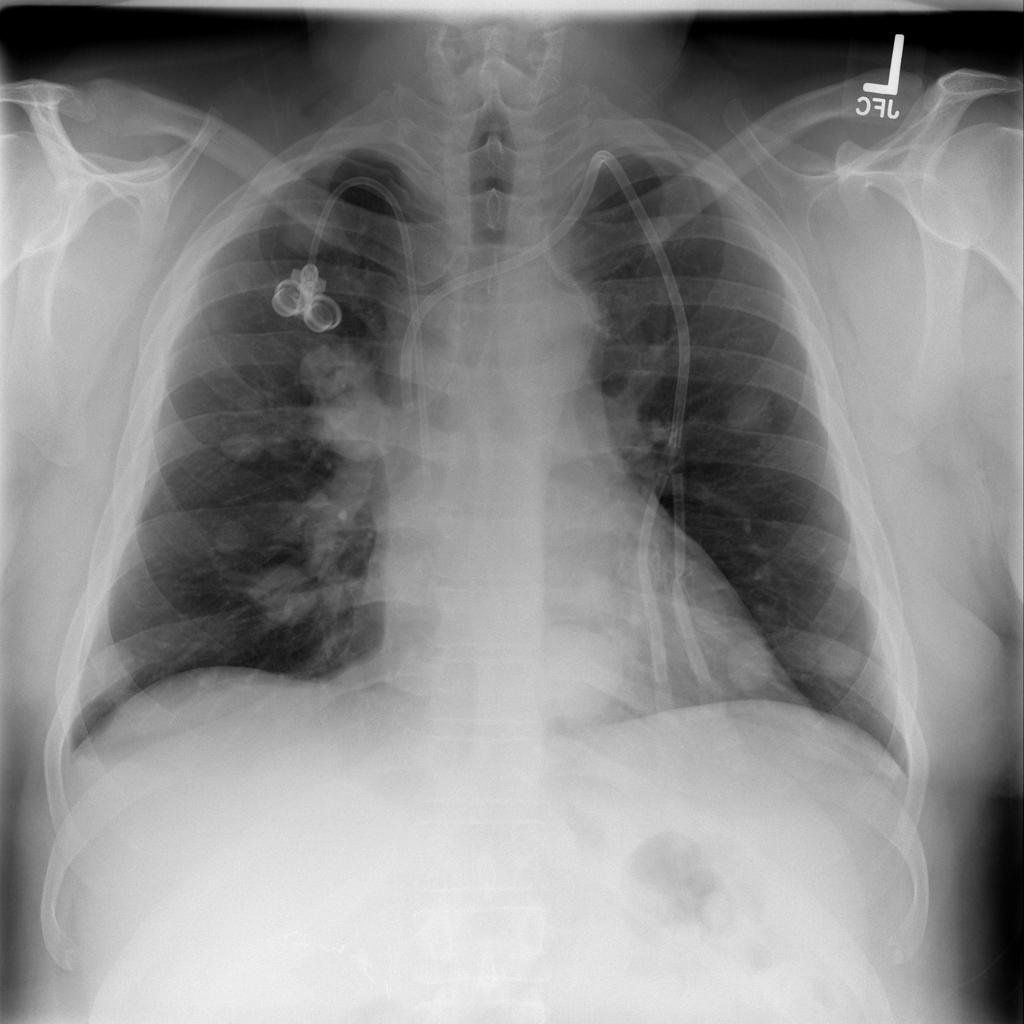nodule: (523, 603, 640, 734), (298, 342, 407, 466), (242, 559, 326, 633), (710, 629, 791, 702), (76, 630, 153, 706), (711, 379, 791, 449), (800, 623, 879, 692), (810, 533, 878, 605), (206, 409, 278, 472), (203, 512, 258, 561)
